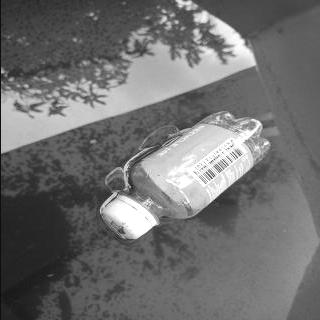bottle: (96, 110, 272, 242)
